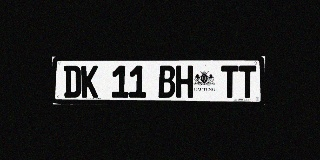1: (129, 66, 146, 98), (112, 66, 128, 98)
B: (158, 66, 175, 98)
D: (64, 66, 81, 98)
H: (176, 65, 193, 98)
K: (81, 66, 98, 98)
T: (221, 65, 238, 98), (239, 65, 256, 98)
